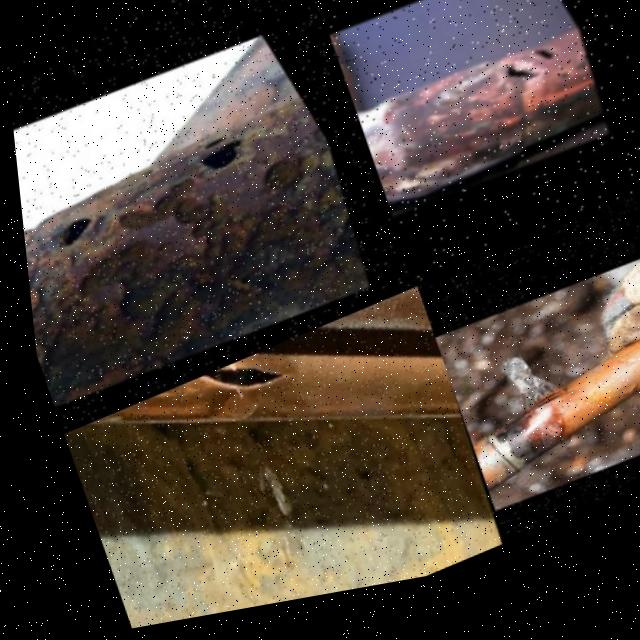hole: (39, 192, 114, 256), (195, 128, 266, 188), (491, 61, 550, 111), (550, 63, 600, 107), (529, 53, 569, 90), (200, 126, 243, 158)
rupture: (190, 356, 300, 408), (515, 399, 570, 436)
